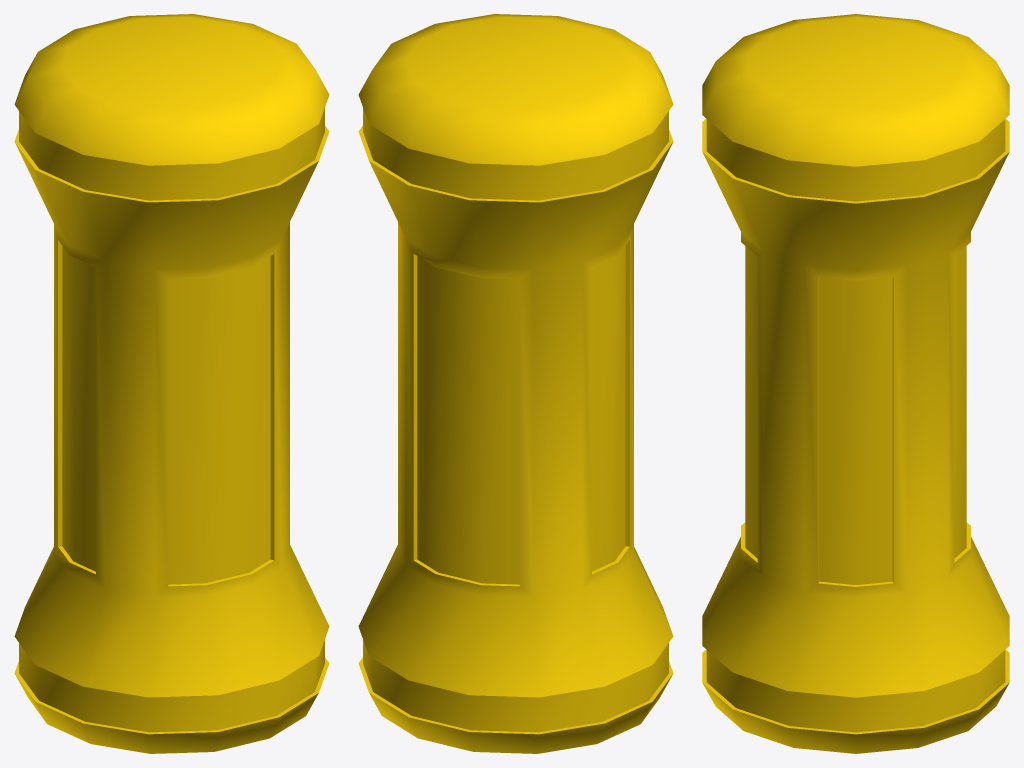
Rendered from LV1PowerGen.fbx.
The picture shows the model from 3 angles, left to right: view 1: azimuth 30°, elevation 25°; view 2: azimuth 150°, elevation 25°; view 3: azimuth 270°, elevation 25°; orthographic projection.
Parts seen in each view (by area): view 1: PGLVone; view 2: PGLVone; view 3: PGLVone.
Boxes of the visible parts, left/top/right/bottom form: PGLVone: left=14, top=14, right=329, bottom=753; PGLVone: left=358, top=14, right=673, bottom=753; PGLVone: left=702, top=14, right=1009, bottom=753.
Size of the model in its own units: 40 by 89.51 by 39.
